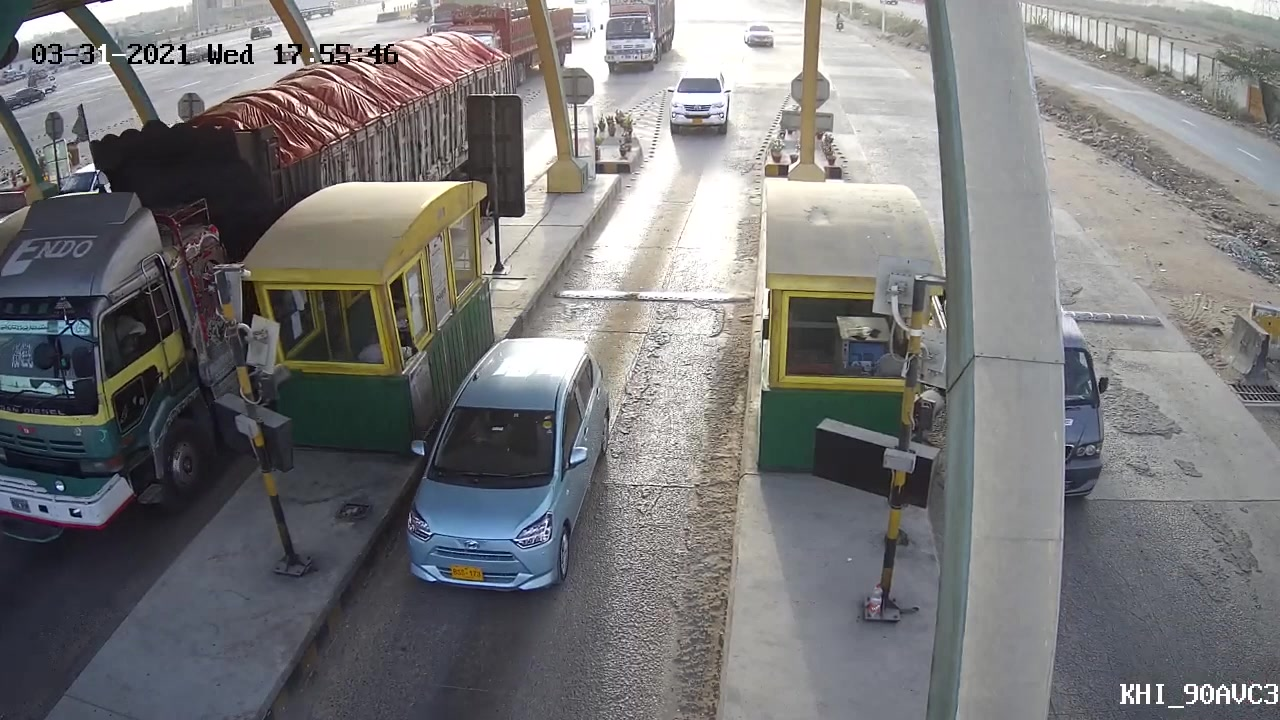F1: (399, 334, 617, 594)
